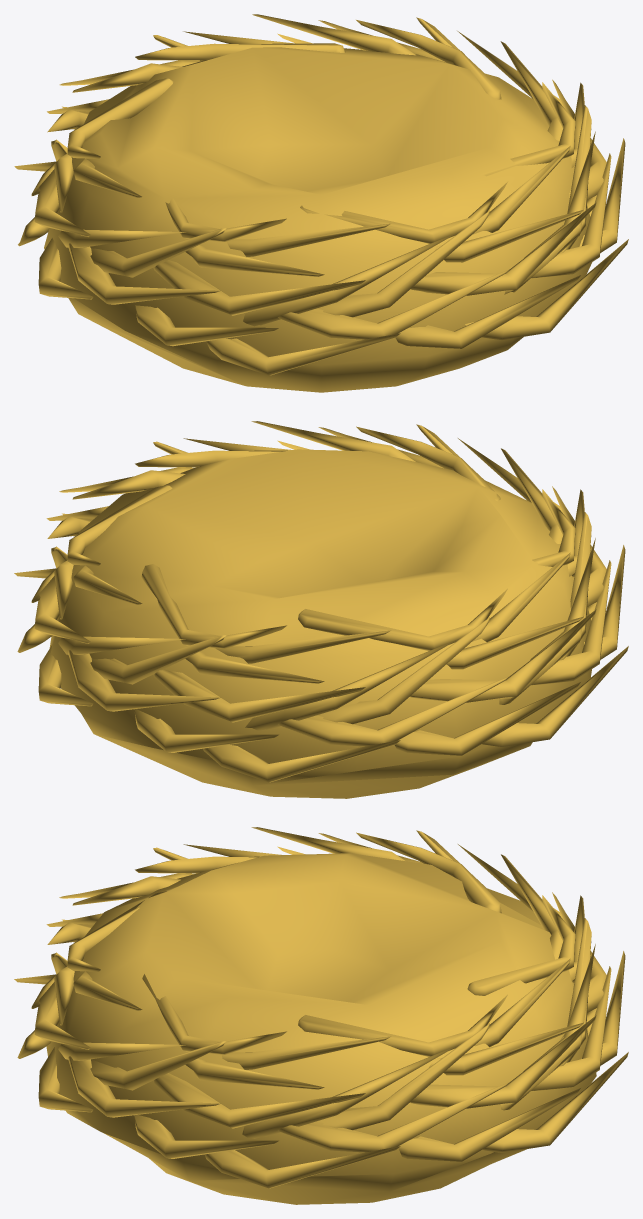
Rendered from HarvestRooms@ChickenNest.fbx.
The picture shows the model from 3 angles, top to bottom: view 1: azimuth 30°, elevation 25°; view 2: azimuth 150°, elevation 25°; view 3: azimuth 270°, elevation 25°; orthographic projection.
Visible parts, largest first — view 1: Torus; view 2: Torus; view 3: Torus.
Boxes of the visible parts, left/top/right/bottom form: Torus: left=14, top=14, right=628, bottom=392; Torus: left=14, top=421, right=628, bottom=798; Torus: left=14, top=827, right=628, bottom=1204.
Bounding box in the file's own units: 44.62 × 14.53 × 42.26.
